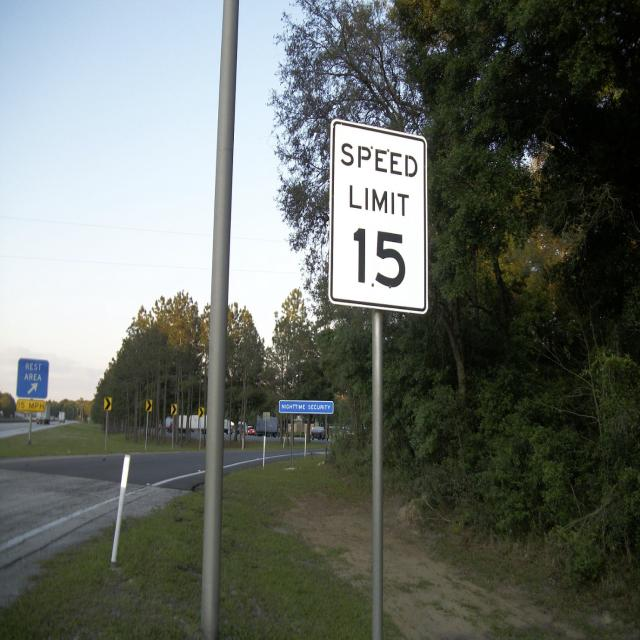speedLimit15: (334, 124, 425, 312)
